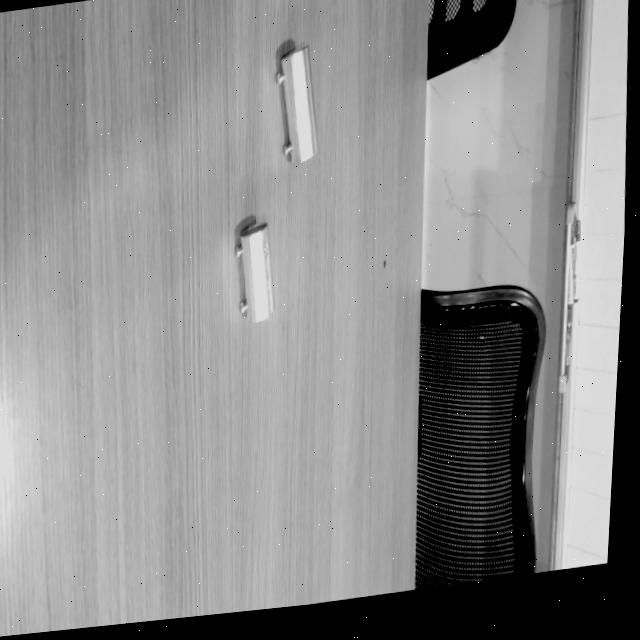Co_Lon: (273, 46, 319, 163)
Co_Nho: (233, 222, 275, 322)
